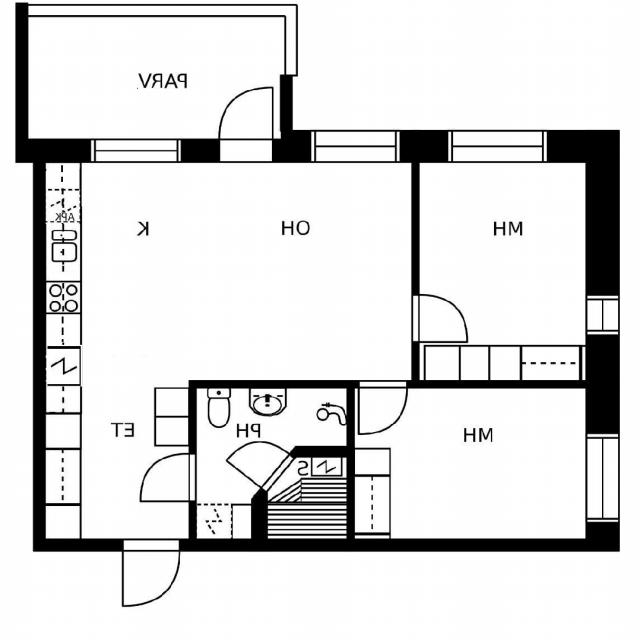door: (228, 428, 296, 492), (220, 88, 272, 162), (124, 538, 180, 606), (360, 380, 408, 435), (412, 294, 468, 341), (142, 454, 198, 500)
